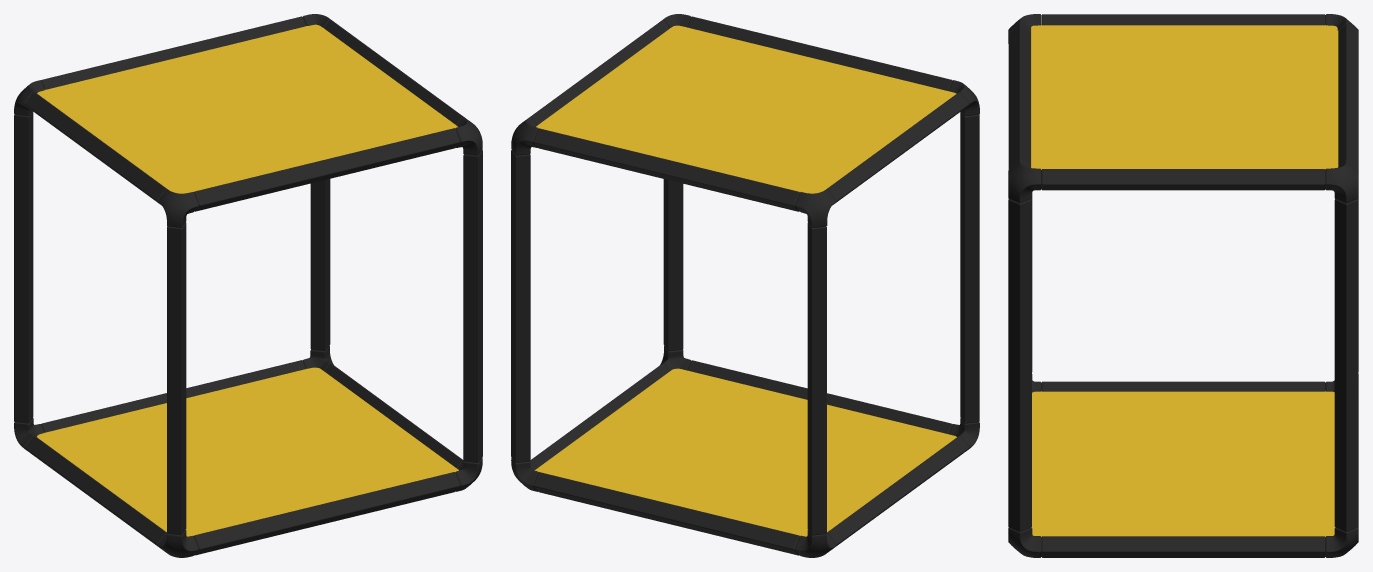
3 views of the same model, side by side, from view 1: azimuth 30°, elevation 25°; view 2: azimuth 150°, elevation 25°; view 3: azimuth 270°, elevation 25° (orthographic). The views are drawn at different scales.
Visible parts, largest first — view 1: 374x329x420; view 2: 374x329x420; view 3: 374x329x420.
Part boxes in pixels (x1,y1,x2,y2): 374x329x420: (14,14,482,557); 374x329x420: (511,14,979,557); 374x329x420: (1008,14,1358,557).
Size of the model in its own units: 0.4517 by 0.4976 by 0.4062.
